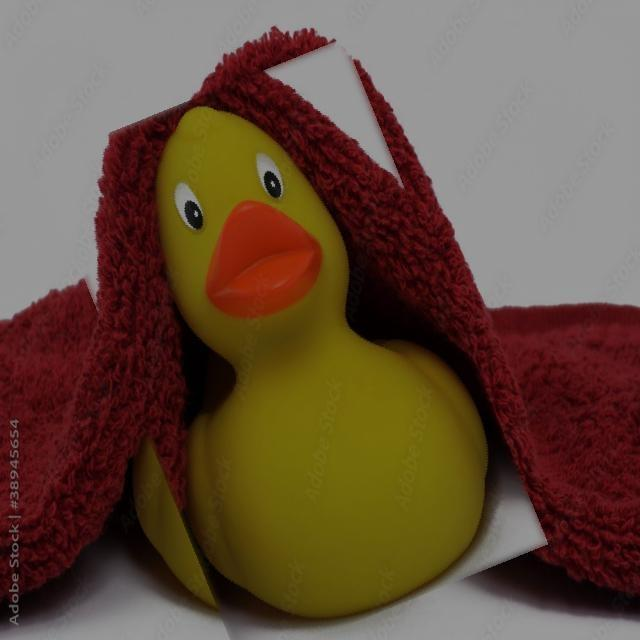rubber-duck: (417, 443, 543, 597), (304, 68, 374, 143)
